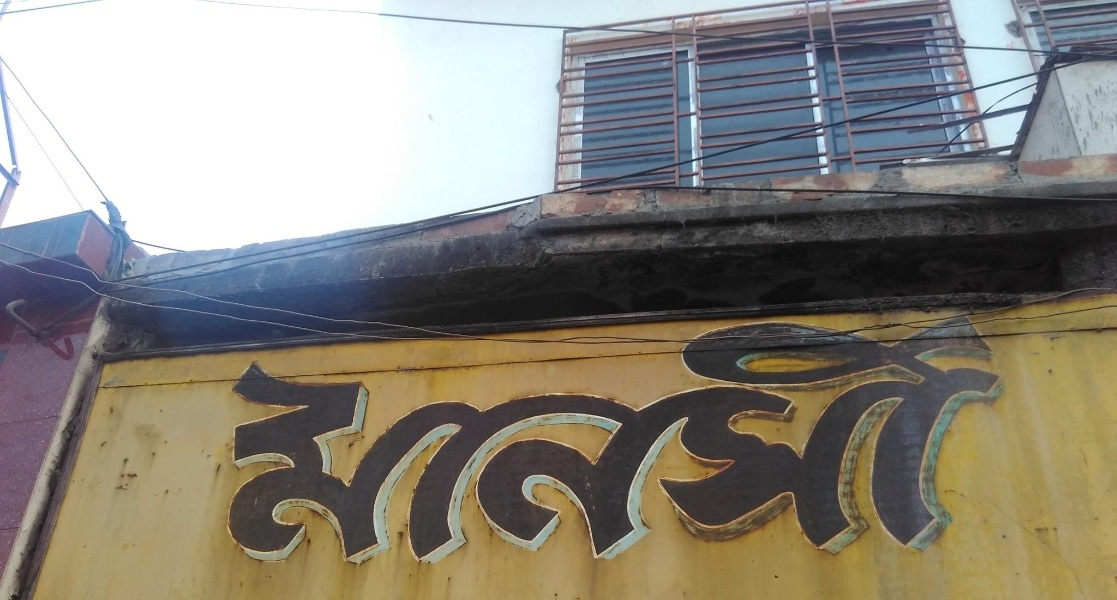text: (241, 302, 256, 596), (257, 302, 272, 596), (273, 302, 288, 596), (289, 302, 304, 596), (305, 302, 320, 596), (321, 302, 336, 596), (337, 302, 352, 596), (353, 302, 368, 596), (369, 302, 384, 596), (385, 302, 400, 596), (401, 302, 416, 596), (417, 302, 432, 596), (433, 302, 448, 596), (449, 302, 464, 596), (465, 302, 480, 596), (481, 302, 496, 596), (497, 302, 512, 596), (513, 302, 528, 596), (529, 302, 544, 596), (545, 302, 560, 596), (561, 302, 576, 596), (577, 302, 592, 596), (593, 302, 608, 596), (609, 302, 624, 596), (625, 302, 640, 596), (641, 302, 656, 596), (657, 302, 672, 596), (673, 302, 688, 596), (689, 302, 704, 596), (705, 302, 720, 596), (721, 302, 736, 596), (737, 302, 752, 596), (753, 302, 768, 596), (769, 302, 784, 596), (785, 302, 800, 596), (801, 302, 816, 596), (817, 302, 832, 596), (833, 302, 848, 596), (849, 302, 864, 596), (865, 302, 880, 596), (881, 302, 896, 596), (897, 302, 912, 596), (913, 302, 928, 596), (929, 302, 944, 596), (945, 302, 960, 596), (961, 302, 976, 596), (977, 302, 992, 596), (993, 302, 1008, 596), (228, 302, 240, 596), (1009, 302, 1010, 596)
